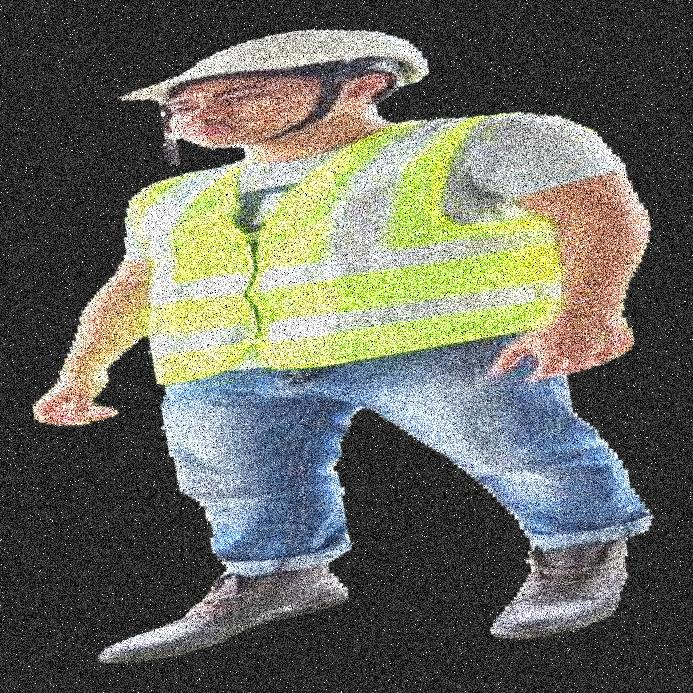Pessoa: (172, 0, 611, 692)
